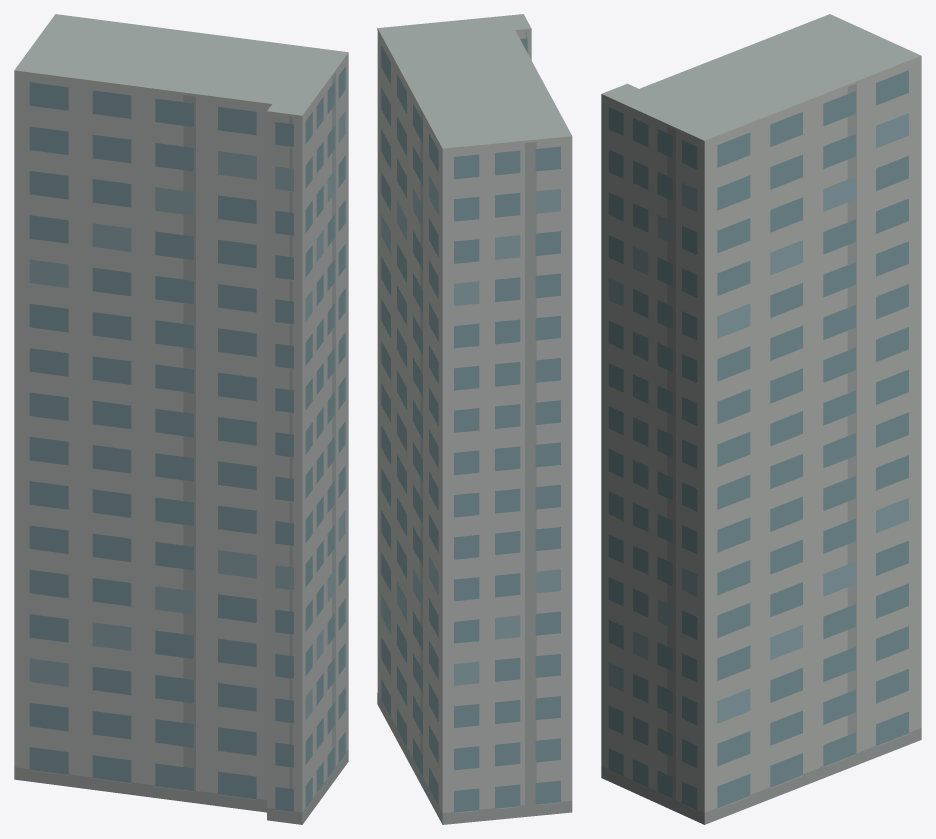
File: residential-f95f2db4-c199-4042-8b54-554e9a4377b0.glb
3 renders of one model, left to right at view 1: azimuth 30°, elevation 25°; view 2: azimuth 150°, elevation 25°; view 3: azimuth 270°, elevation 25°, orthographic. The views are drawn at different scales.
Parts seen in each view (by area): view 1: residential-f95f2db4-c199-4042-8b54-554e9a4377b0.tmp; view 2: residential-f95f2db4-c199-4042-8b54-554e9a4377b0.tmp; view 3: residential-f95f2db4-c199-4042-8b54-554e9a4377b0.tmp.
Part boxes in pixels (left/top/right/bottom): residential-f95f2db4-c199-4042-8b54-554e9a4377b0.tmp: left=14, top=14, right=348, bottom=824; residential-f95f2db4-c199-4042-8b54-554e9a4377b0.tmp: left=377, top=14, right=572, bottom=824; residential-f95f2db4-c199-4042-8b54-554e9a4377b0.tmp: left=601, top=14, right=921, bottom=824.
Bounding box in the file's own units: 28.24 × 71 × 30.13.
